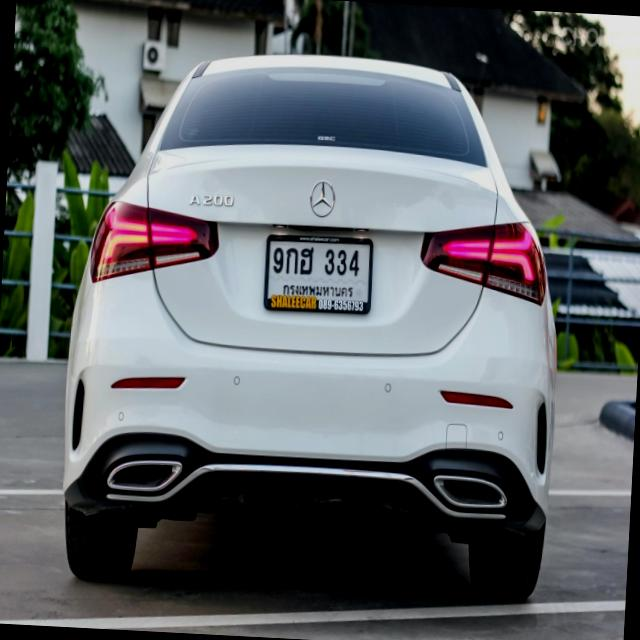license_plate: (263, 231, 376, 316)
